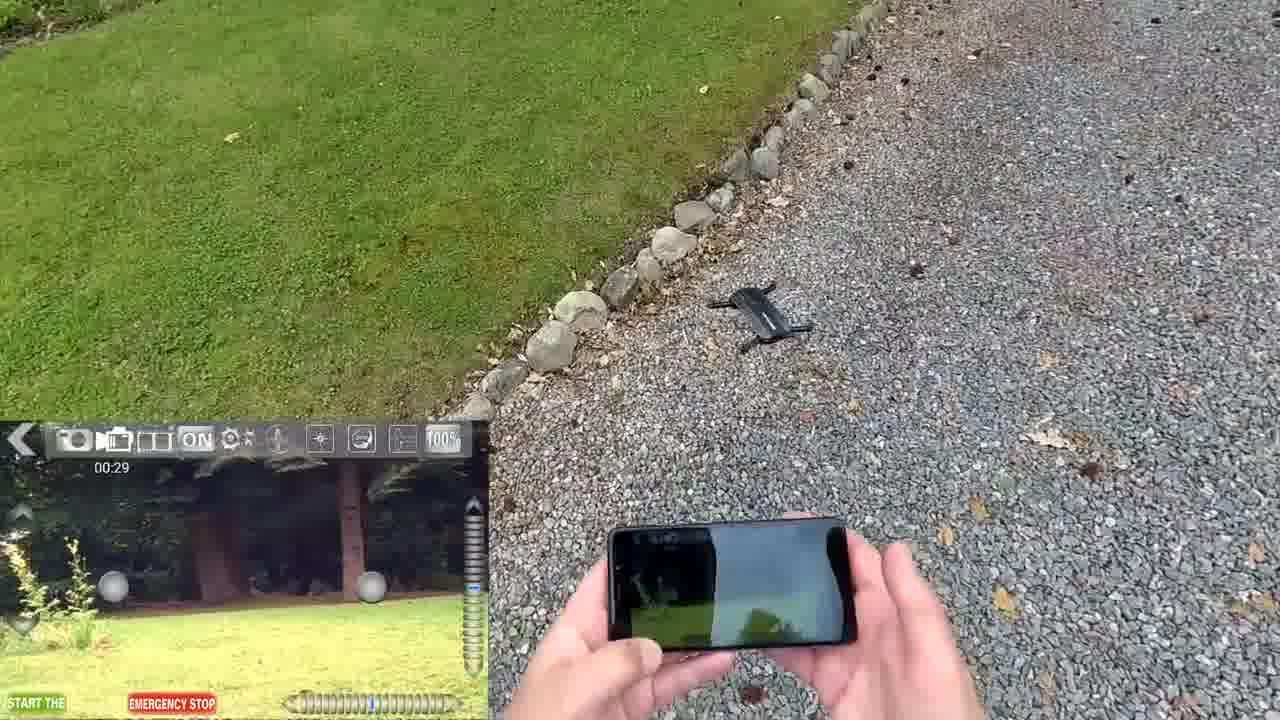drone: (707, 273, 820, 356)
